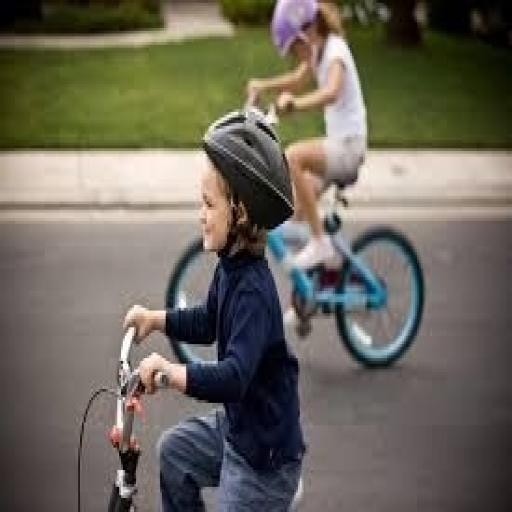cycling: (121, 104, 309, 509), (244, 0, 370, 274)
